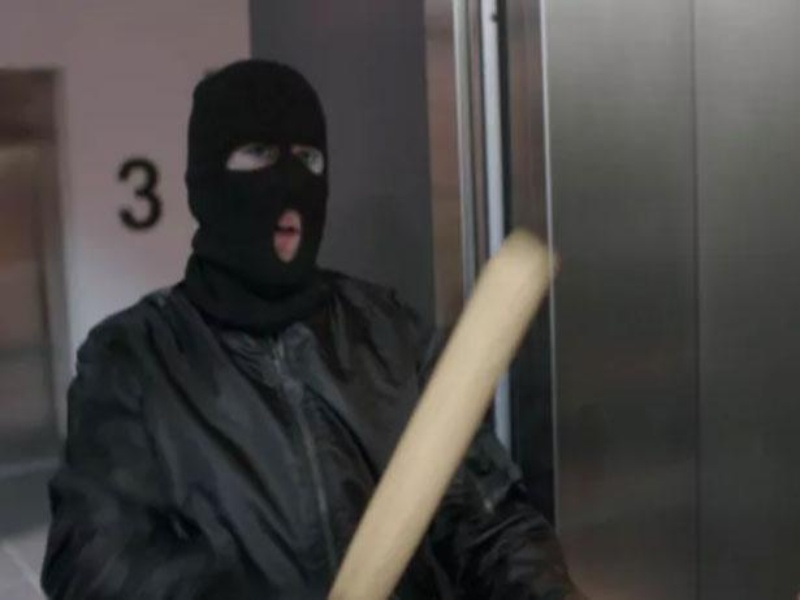balaclava: (183, 57, 340, 327)
baseball_bat: (327, 226, 559, 600)
person: (39, 58, 585, 600)
